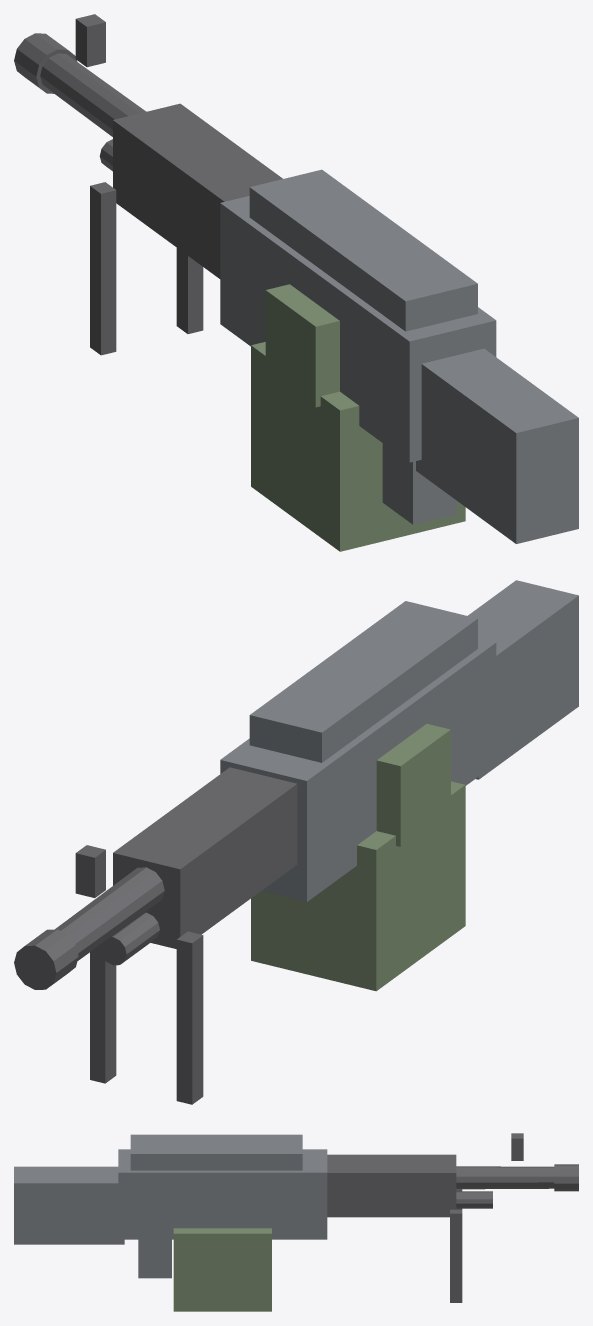
The model's file is m249_saw.glb.
The picture shows the model from 3 angles, top to bottom: view 1: azimuth 30°, elevation 25°; view 2: azimuth 150°, elevation 25°; view 3: azimuth 270°, elevation 25°; orthographic projection. The views are drawn at different scales.
Parts seen in each view (by area): view 1: M249_SAW; view 2: M249_SAW; view 3: M249_SAW.
Part boxes in pixels (bbox=[...]): M249_SAW: bbox=[14, 14, 578, 551]; M249_SAW: bbox=[14, 580, 578, 1104]; M249_SAW: bbox=[14, 1133, 578, 1311].
Bounding box in the file's own units: 0.135 × 0.285 × 0.92.
